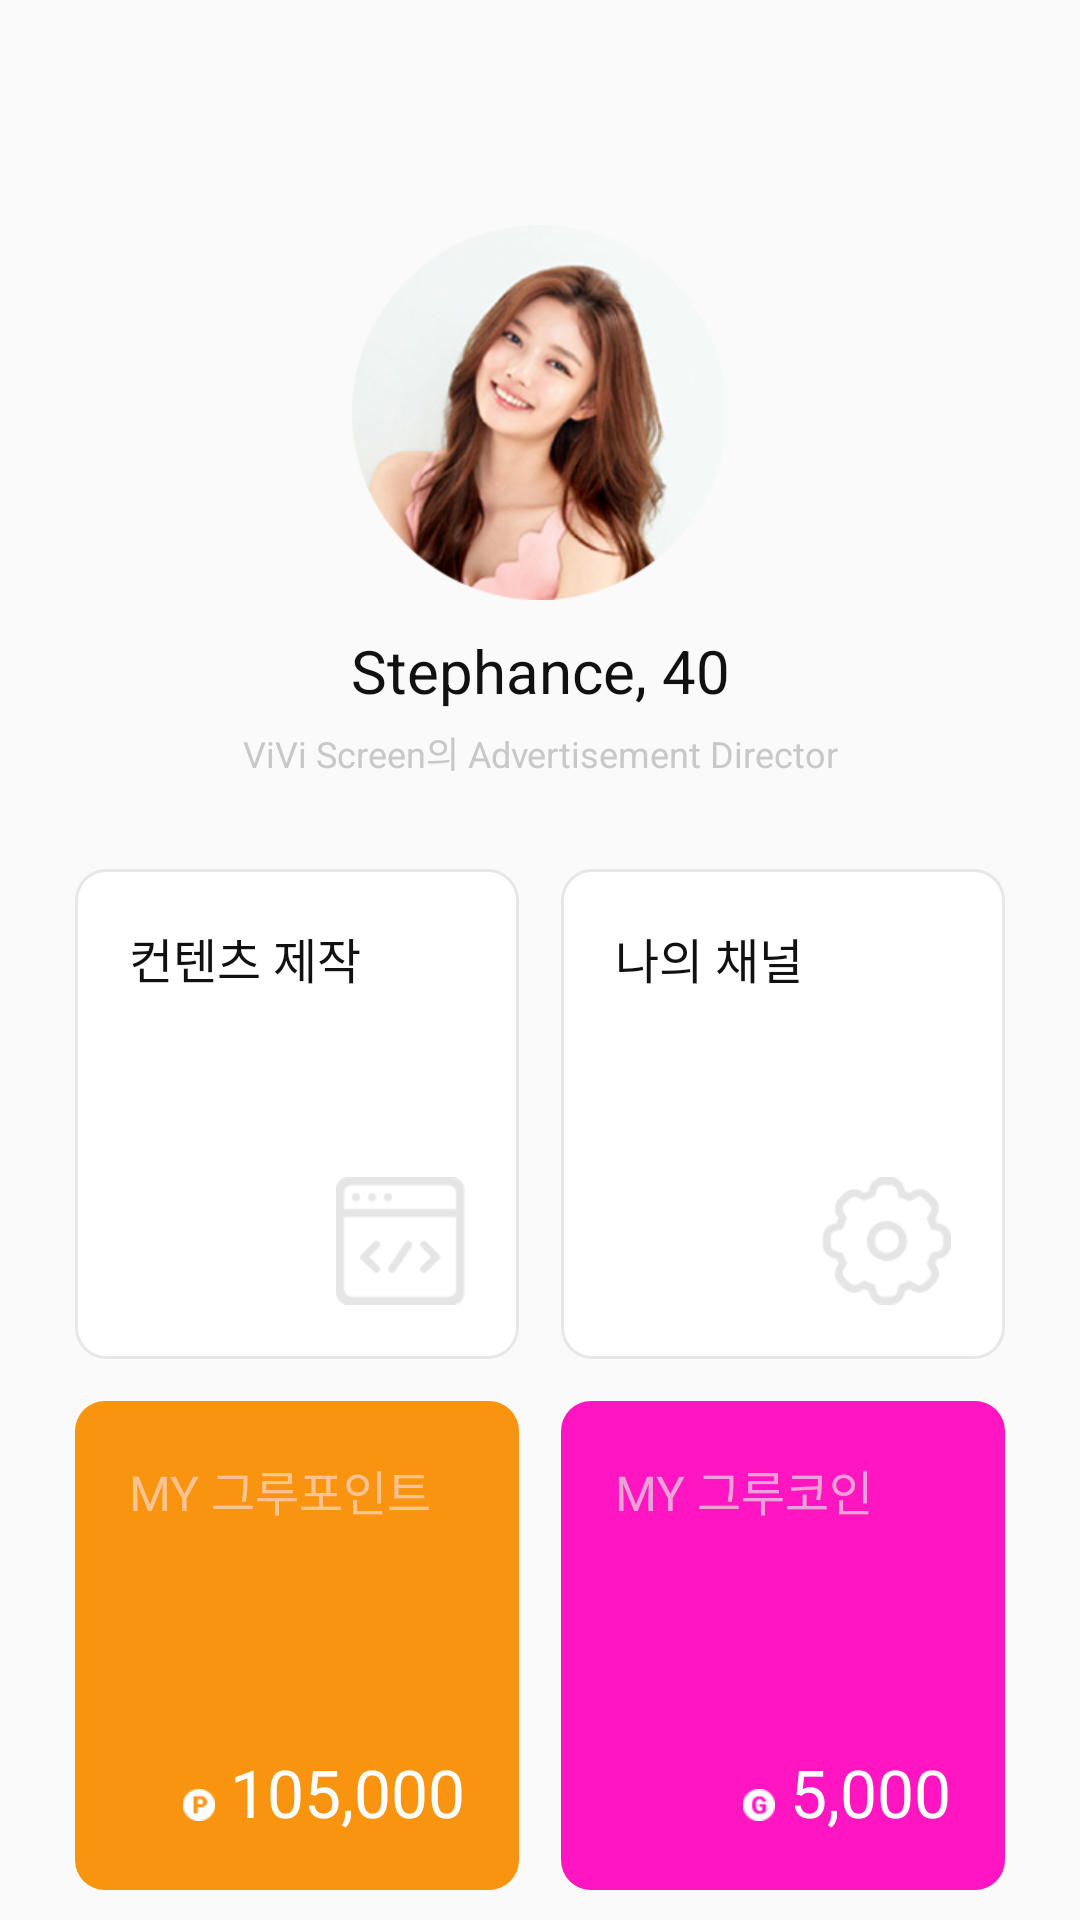

Icons on this 1080w x 1920h Android screen, each with its box as (x1=x1, y1=y1, x2=x2, y2=y2):
groocoin: (x1=743, y1=1789, x2=775, y2=1821)
groopoint: (x1=183, y1=1789, x2=215, y2=1821)
